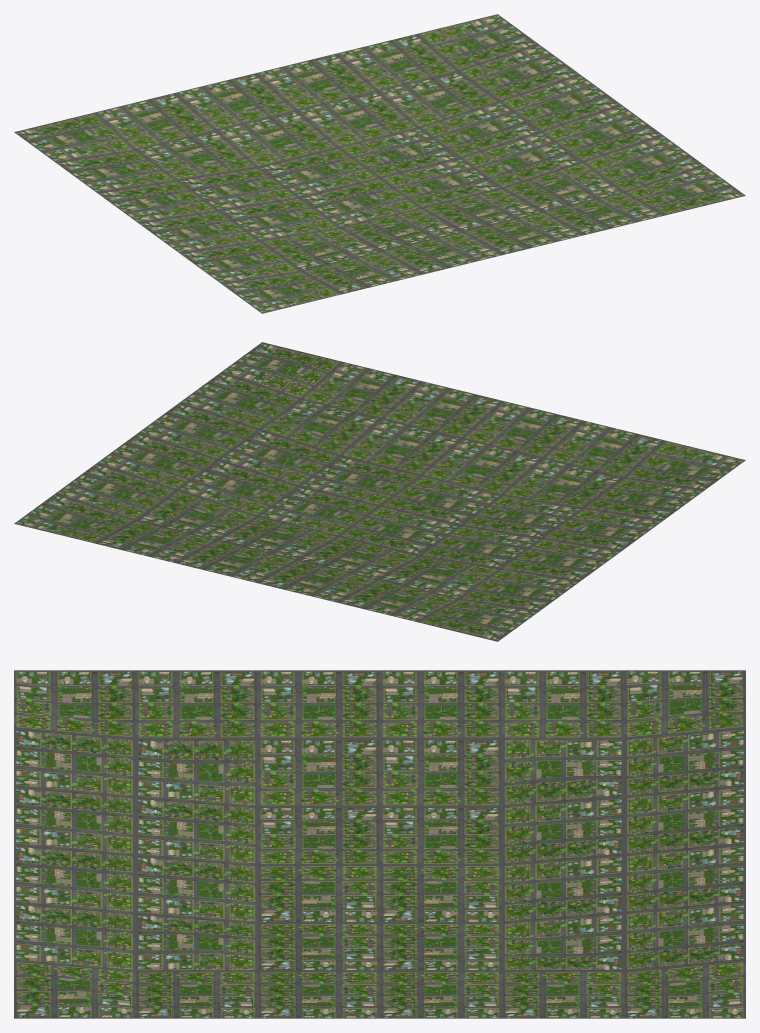
Rendered from BLOCK_HOODFAR.glb.
3 renders of one model, top to bottom at view 1: azimuth 30°, elevation 25°; view 2: azimuth 150°, elevation 25°; view 3: azimuth 270°, elevation 25°, orthographic. The views are drawn at different scales.
Visible parts, largest first — view 1: BLOCK_HOODFAR; view 2: BLOCK_HOODFAR; view 3: BLOCK_HOODFAR.
Boxes of the visible parts, x1,y1,x2,y2 form: BLOCK_HOODFAR: (14, 14, 745, 313); BLOCK_HOODFAR: (14, 342, 745, 641); BLOCK_HOODFAR: (14, 670, 745, 1018).
Size of the model in its own units: 85550 by 2352 by 76010.
1 material, 1 textured.
